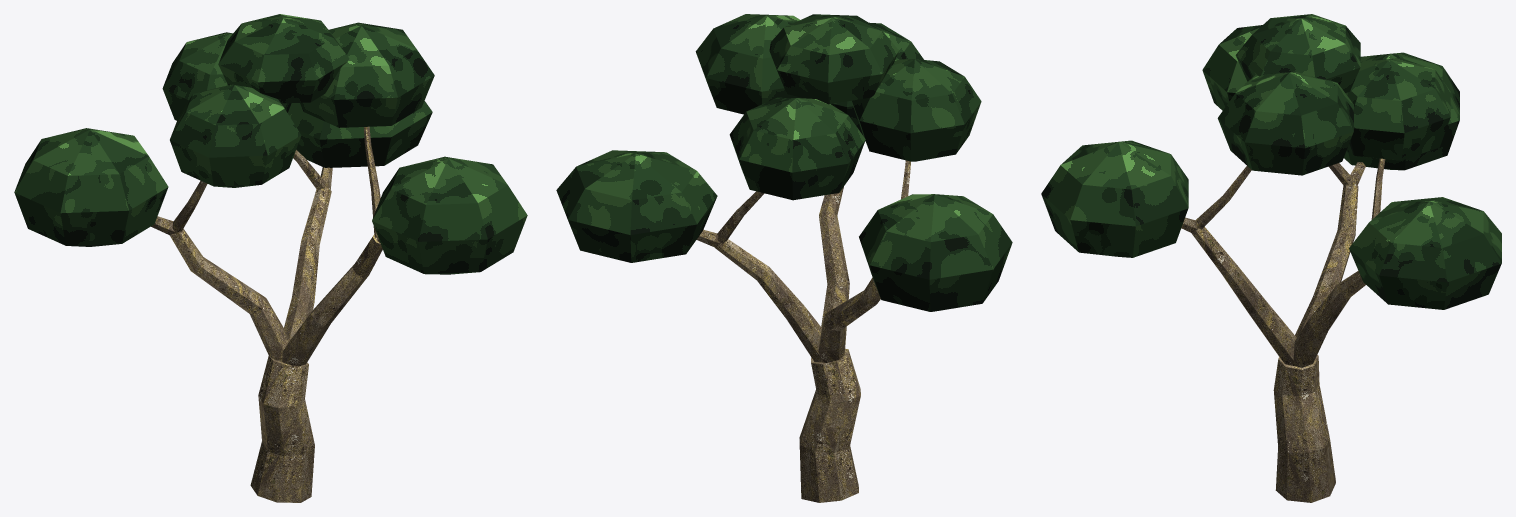
File: tree_kaki.glb
3 views of the same model, side by side, from view 1: azimuth 30°, elevation 25°; view 2: azimuth 150°, elevation 25°; view 3: azimuth 270°, elevation 25° (orthographic).
Visible parts, largest first — view 1: tree_kaki; view 2: tree_kaki; view 3: tree_kaki.
Boxes of the visible parts, x1,y1,x2,y2 form: tree_kaki: (14, 14, 527, 502); tree_kaki: (556, 14, 1012, 502); tree_kaki: (1041, 14, 1501, 502).
Bounding box in the file's own units: 5.1 × 5.57 × 4.93.
1 material, 1 textured.
